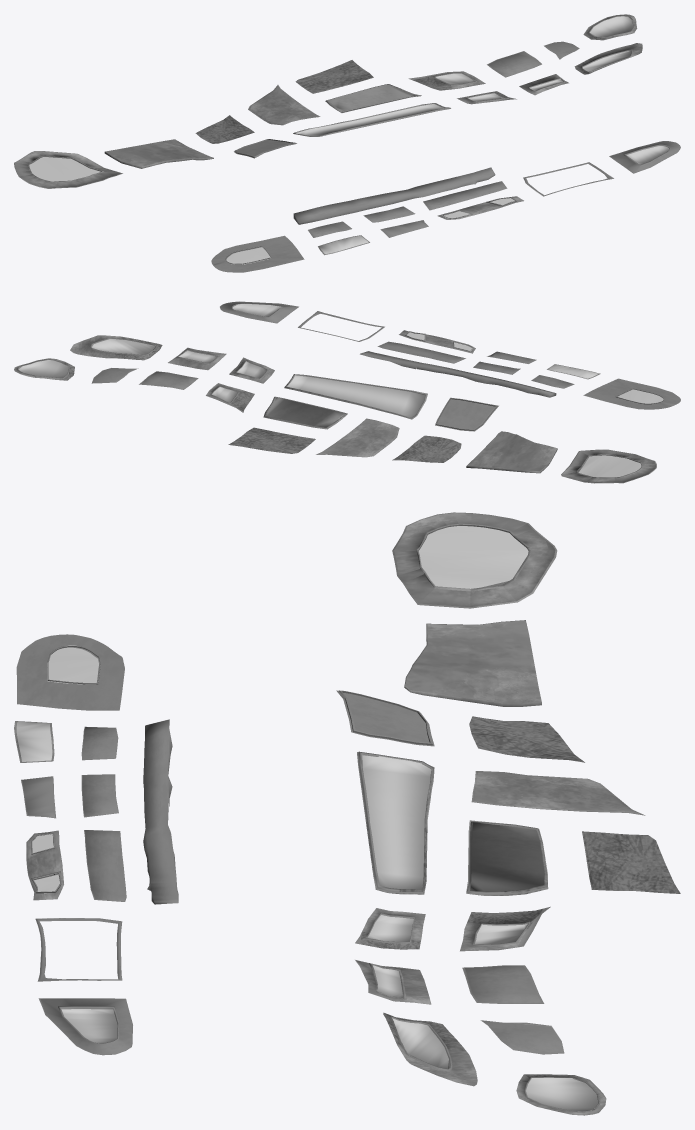
Rendered from Calcada.fbx.
The picture shows the model from 3 angles, top to bottom: view 1: azimuth 30°, elevation 25°; view 2: azimuth 150°, elevation 25°; view 3: azimuth 270°, elevation 25°; orthographic projection. The views are drawn at different scales.
Parts seen in each view (by area): view 1: CalcadaPraia, CalcadaCidadeO, CalcadaCidadeL; view 2: CalcadaCidadeL, CalcadaCidadeO, CalcadaPraia; view 3: CalcadaCidadeO, CalcadaCidadeL, CalcadaPraia.
Boxes of the visible parts, box(x1,y1,x2,y2) form: CalcadaPraia: box(211, 141, 680, 272); CalcadaCidadeO: box(14, 60, 373, 188); CalcadaCidadeL: box(293, 14, 642, 136); CalcadaCidadeL: box(14, 335, 427, 429); CalcadaCidadeO: box(228, 397, 656, 483); CalcadaPraia: box(220, 301, 680, 409); CalcadaCidadeO: box(336, 512, 680, 893); CalcadaCidadeL: box(355, 751, 606, 1115); CalcadaPraia: box(14, 634, 178, 1055).
Bounding box in the file's own units: 114902 × 5267 × 57138.
